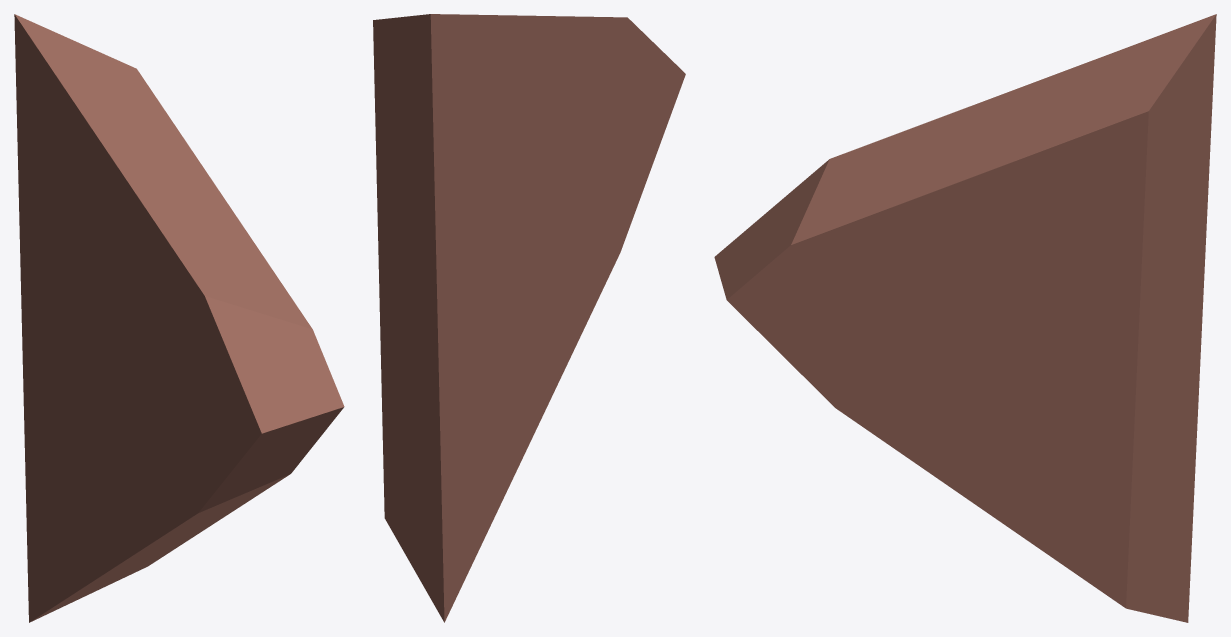
The model's file is T_MurDetruit_6.11.fbx.
The picture shows the model from 3 angles, left to right: view 1: azimuth 30°, elevation 25°; view 2: azimuth 150°, elevation 25°; view 3: azimuth 270°, elevation 25°; orthographic projection. The views are drawn at different scales.
Visible parts, largest first — view 1: T_MurDetruit_6.11; view 2: T_MurDetruit_6.11; view 3: T_MurDetruit_6.11.
Boxes of the visible parts, box(x1,y1,x2,y2) form: T_MurDetruit_6.11: box(14, 14, 344, 622); T_MurDetruit_6.11: box(373, 14, 685, 622); T_MurDetruit_6.11: box(714, 14, 1216, 622).
Bounding box in the file's own units: 13.48 × 86.57 × 64.74.
